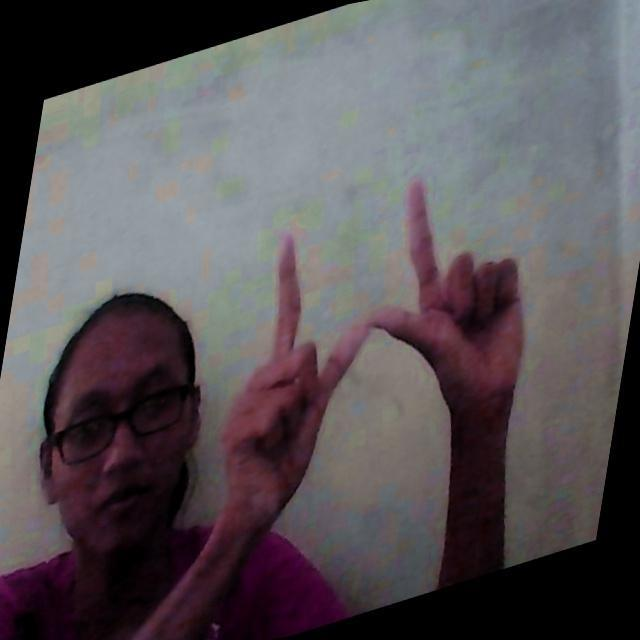W: (203, 153, 532, 507)
